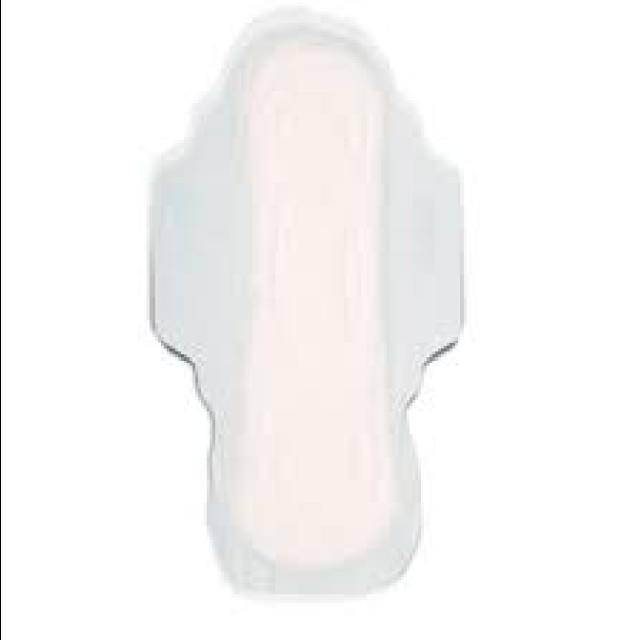napkin: (153, 11, 462, 594)
